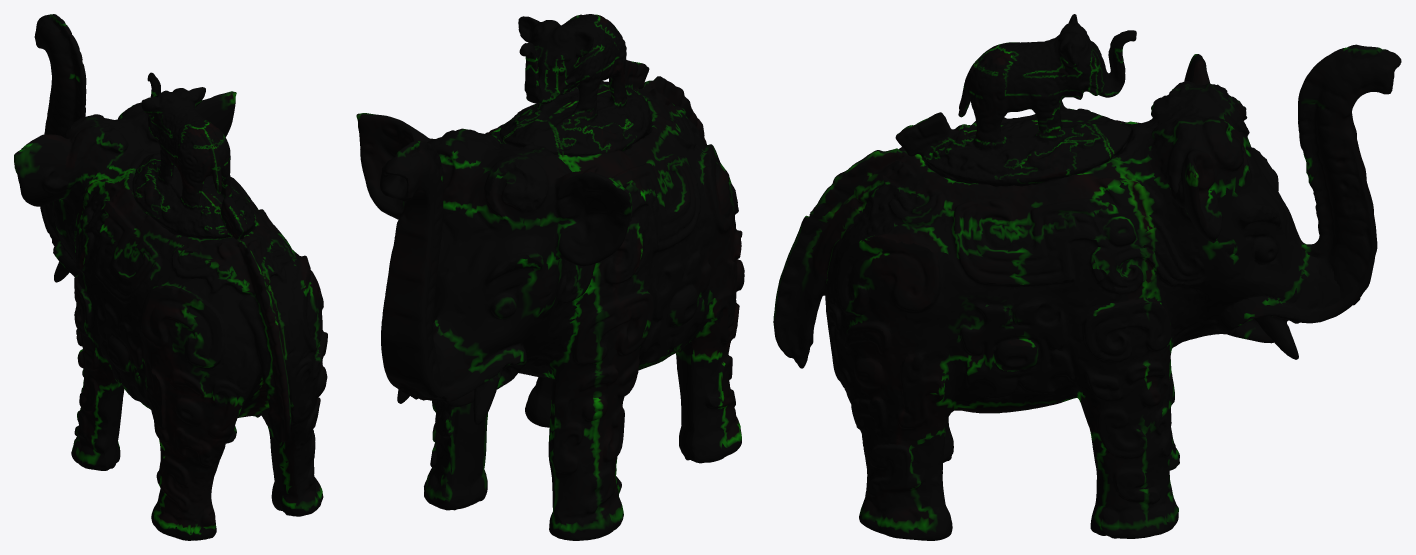
3 views of the same model, side by side, from view 1: azimuth 30°, elevation 25°; view 2: azimuth 150°, elevation 25°; view 3: azimuth 270°, elevation 25° (orthographic). The views are drawn at different scales.
Visible parts, largest first — view 1: ewer_huo; view 2: ewer_huo; view 3: ewer_huo.
Part boxes in pixels (x1=…): ewer_huo: x1=14, y1=14, x2=327, y2=540; ewer_huo: x1=356, y1=14, x2=744, y2=540; ewer_huo: x1=773, y1=14, x2=1401, y2=540.
Size of the model in its own units: 0.1716 by 0.2805 by 0.3396.
1 material, 1 textured.
